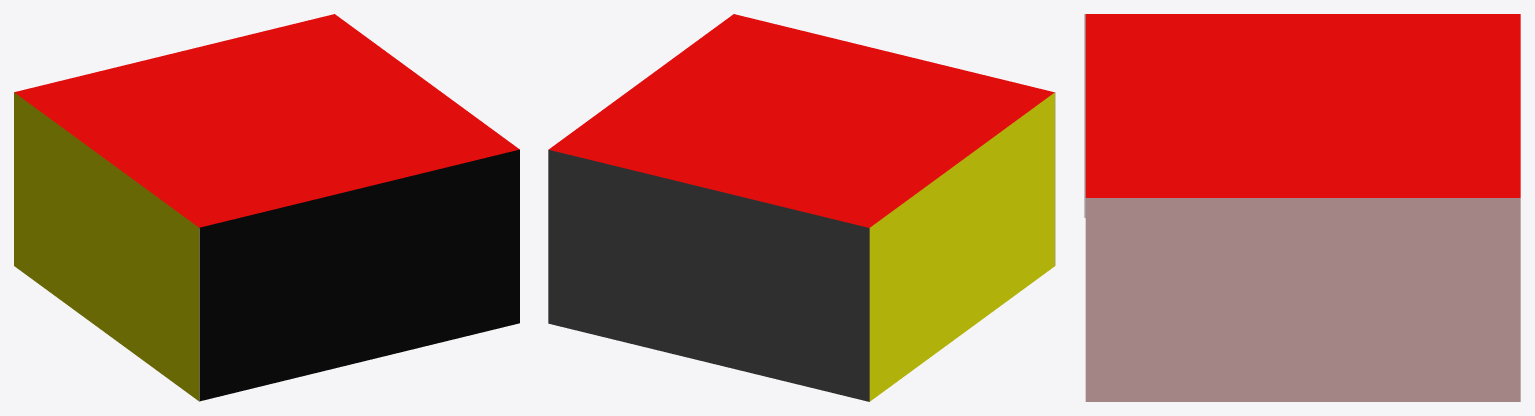
3 views of the same model, side by side, from view 1: azimuth 30°, elevation 25°; view 2: azimuth 150°, elevation 25°; view 3: azimuth 270°, elevation 25° (orthographic). The views are drawn at different scales.
Visible parts, largest first — view 1: ID226, ID218, ID210; view 2: ID226, ID194, ID210; view 3: ID202, ID226, ID188.
Boxes of the visible parts, bbox=[...] form: ID226: bbox=[14, 14, 519, 227]; ID218: bbox=[199, 149, 519, 401]; ID210: bbox=[14, 92, 199, 400]; ID226: bbox=[549, 14, 1054, 227]; ID194: bbox=[548, 149, 869, 401]; ID210: bbox=[869, 92, 1054, 401]; ID202: bbox=[1085, 198, 1520, 401]; ID226: bbox=[1085, 14, 1520, 197]; ID188: bbox=[1084, 14, 1085, 217].
Size of the model in its own units: 154 by 155 by 79.95.
